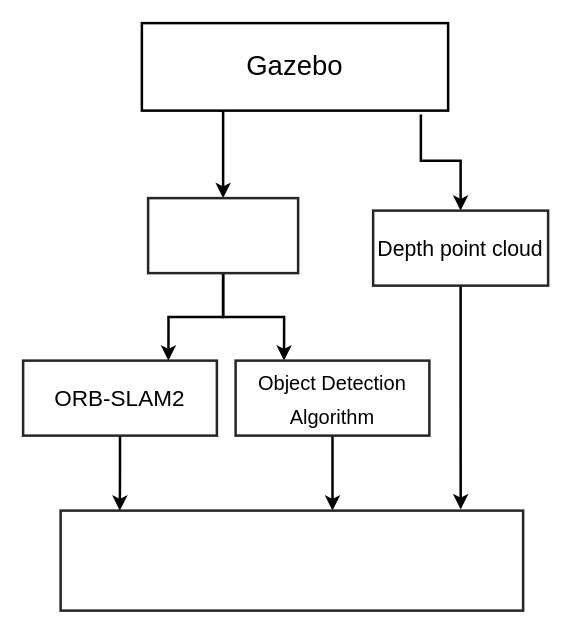
This 570x633 diagram has some shape labels left out. Each missing label, with the centre of its shape:
Image Stream: pixel 222 235
Navigation with MoveIt!: pixel 291 560
